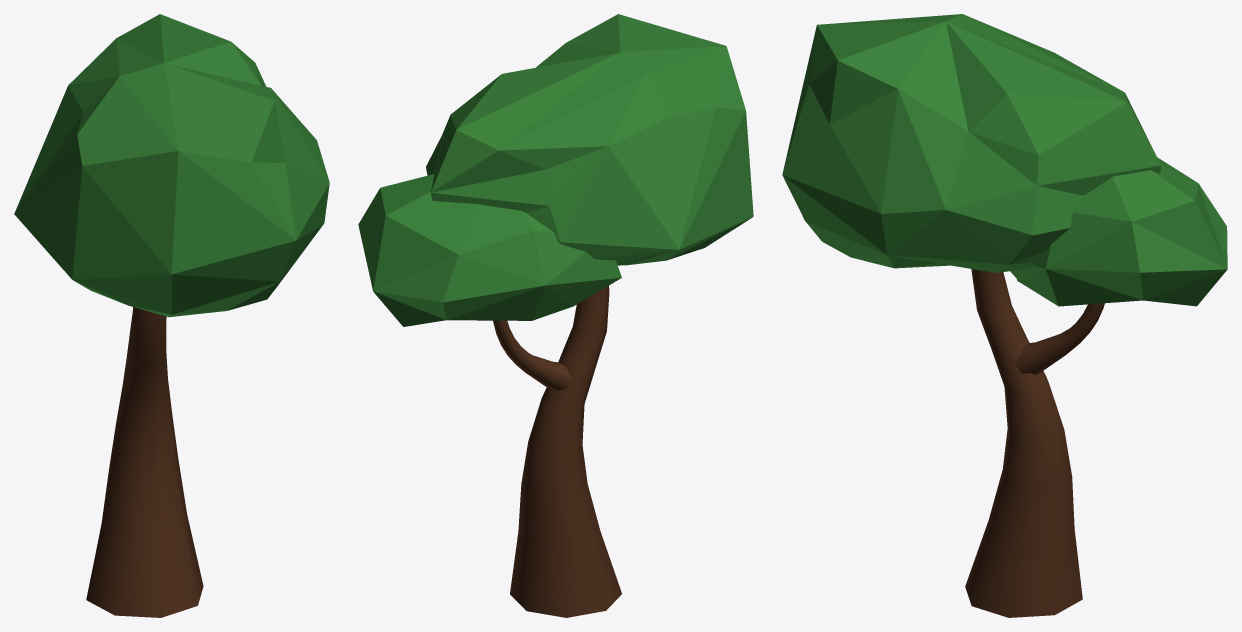
Rendered from tree_1.obj.
The picture shows the model from 3 angles, left to right: view 1: azimuth 30°, elevation 25°; view 2: azimuth 150°, elevation 25°; view 3: azimuth 270°, elevation 25°; orthographic projection. The views are drawn at different scales.
Visible parts, largest first — view 1: tree_1 trees; view 2: tree_1 trees; view 3: tree_1 trees.
Boxes of the visible parts, left/top/right/bottom form: tree_1 trees: left=14, top=14, right=329, bottom=617; tree_1 trees: left=358, top=14, right=753, bottom=617; tree_1 trees: left=782, top=14, right=1227, bottom=617.
Size of the model in its own units: 9.05 by 15.99 by 11.48.
